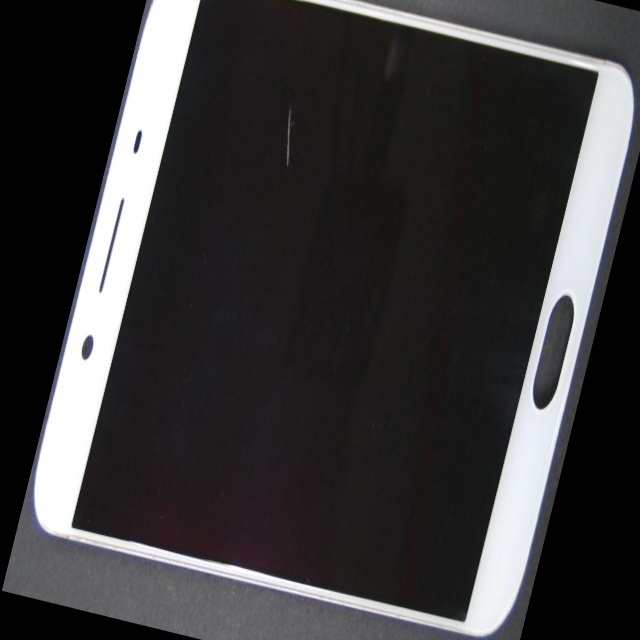scratch: (197, 81, 390, 267)
